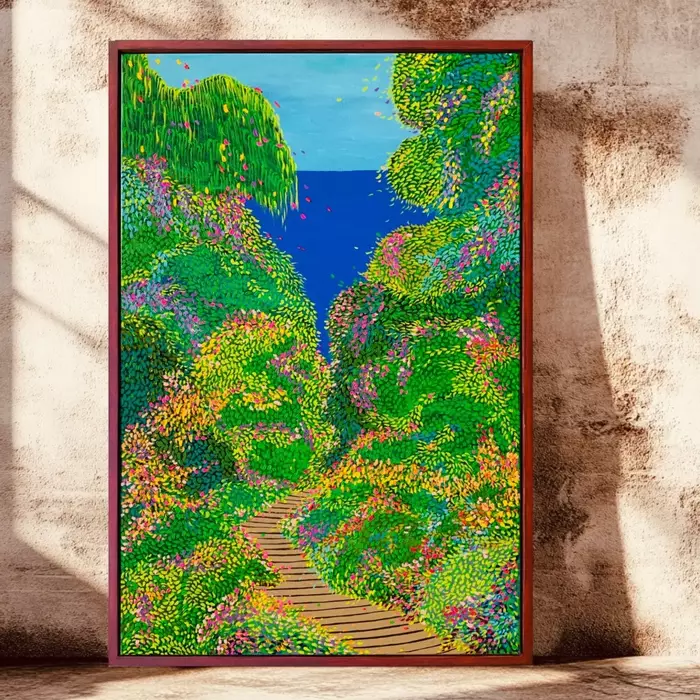painting: (112, 42, 531, 664)
